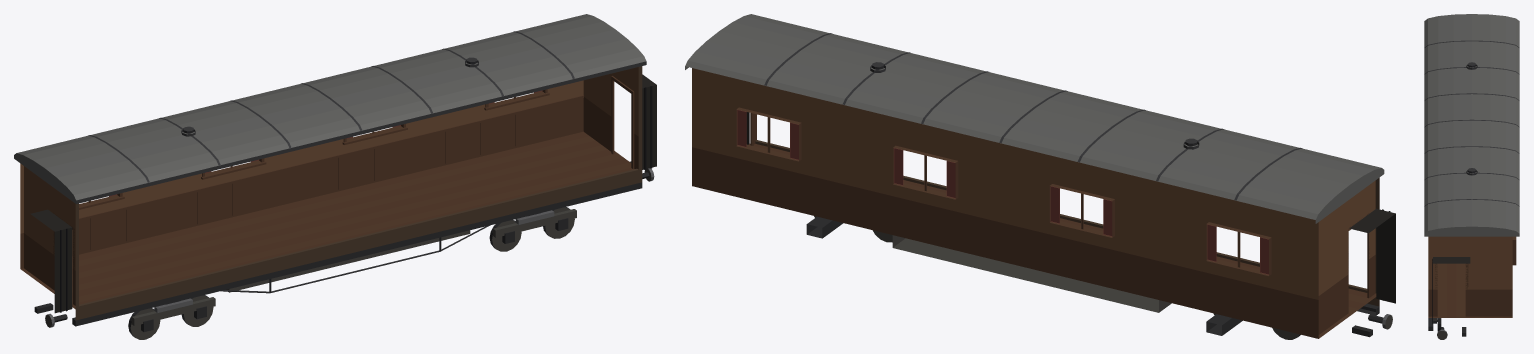
File: shell_chief.glb
3 views of the same model, side by side, from view 1: azimuth 30°, elevation 25°; view 2: azimuth 150°, elevation 25°; view 3: azimuth 270°, elevation 25° (orthographic). The views are drawn at different scales.
Parts seen in each view (by area): view 1: shell_chief; view 2: shell_chief; view 3: shell_chief.
Part boxes in pixels (left/top/right/bottom): shell_chief: left=14, top=14, right=656, bottom=339; shell_chief: left=685, top=14, right=1395, bottom=339; shell_chief: left=1424, top=14, right=1519, bottom=339.
Bounding box in the file's own units: 17 × 4.81 × 3.04.
1 material, 1 textured.
